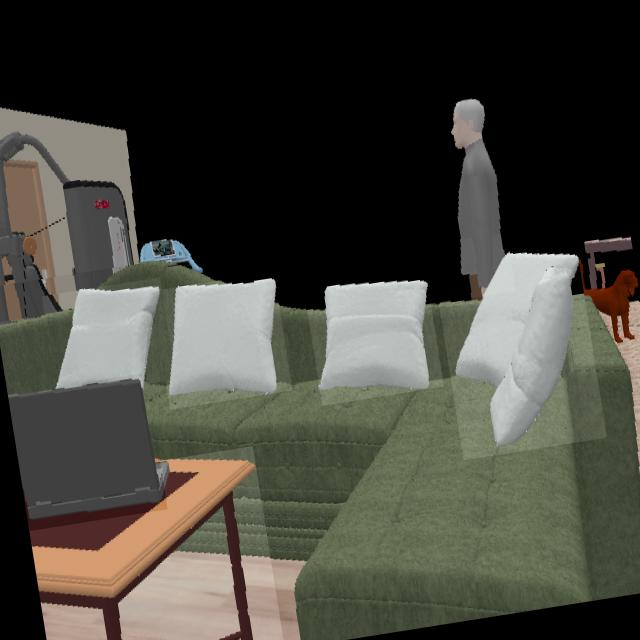laptop: (8, 381, 163, 524)
person: (452, 101, 508, 297)
pillow: (452, 255, 580, 454), (169, 281, 276, 395), (320, 283, 431, 390), (57, 286, 163, 391)
sofa: (0, 260, 640, 640), (0, 314, 72, 396)
table: (26, 461, 256, 640), (587, 237, 633, 289)
